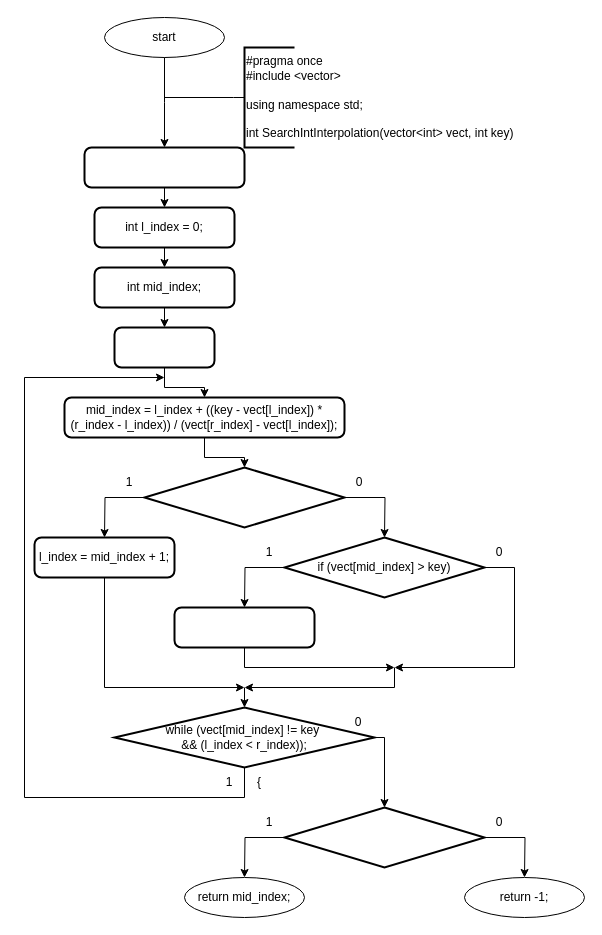
This 602x935 diagram has some shape labels left out. Each missing label, with the centre of its shape:
"do" goes at point 164,347.
"if (vect[mid_index] < key)" goes at point 244,497.
"if (vect[mid_index] == key)" goes at point 384,837.
"int r_index = vect.size() - 1;" goes at point 164,167.
"r_index = mid_index - 1;" goes at point 244,627.
